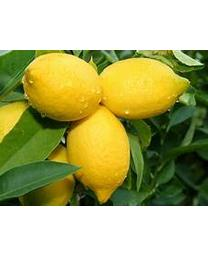lemon: (65, 104, 132, 201), (23, 54, 103, 123), (99, 59, 190, 119)
